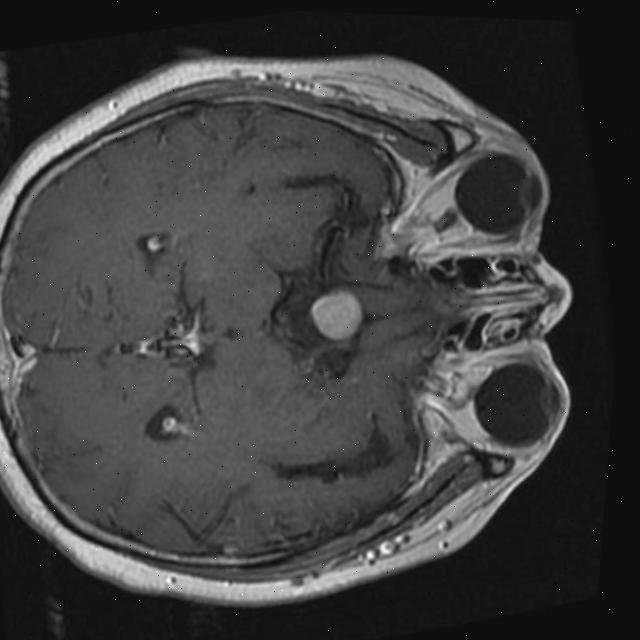Pituitary: (305, 285, 369, 346)
